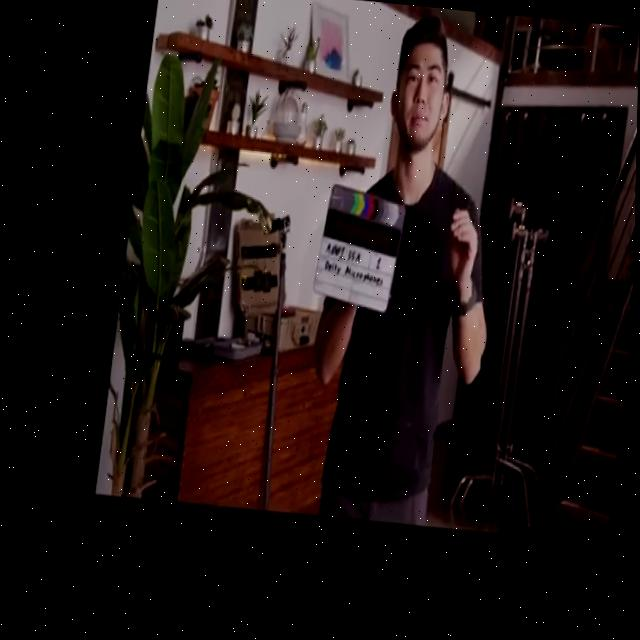Clapperboard: (312, 183, 405, 314)
